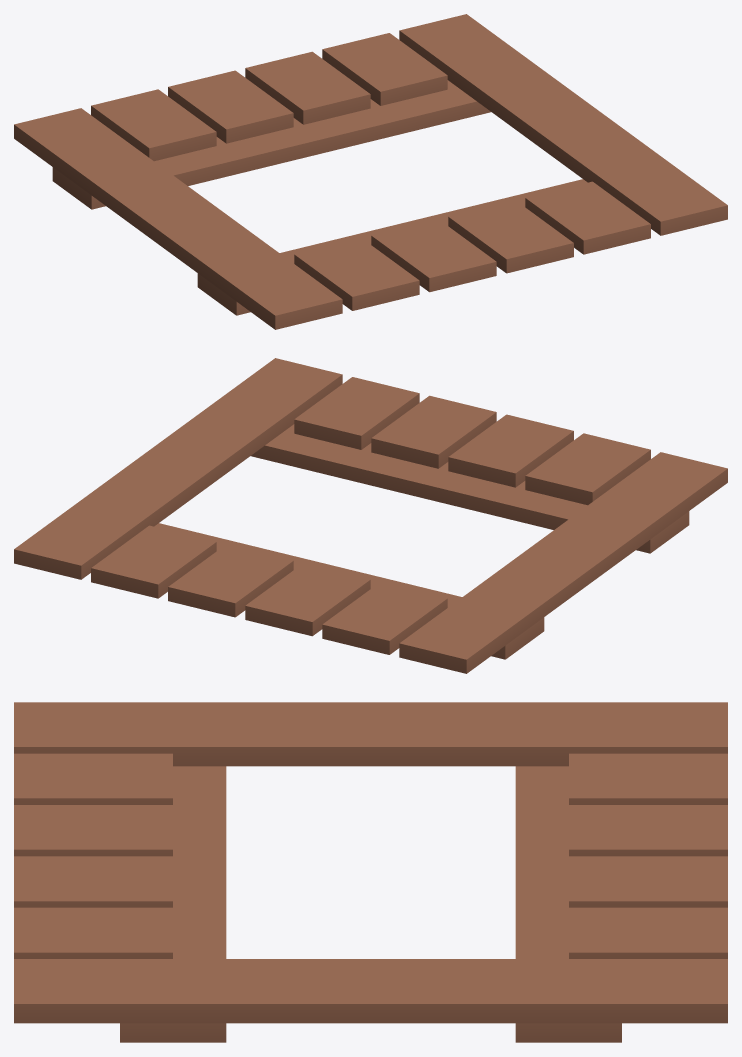
The model's file is planks-opening.glb.
The picture shows the model from 3 angles, top to bottom: view 1: azimuth 30°, elevation 25°; view 2: azimuth 150°, elevation 25°; view 3: azimuth 270°, elevation 25°; orthographic projection. The views are drawn at different scales.
Visible parts, largest first — view 1: planks-opening; view 2: planks-opening; view 3: planks-opening.
Part boxes in pixels (x1,y1,x2,y2): planks-opening: (14, 14, 727, 329); planks-opening: (14, 358, 727, 673); planks-opening: (14, 702, 727, 1042).
Bounding box in the file's own units: 3 × 0.1798 × 3.
